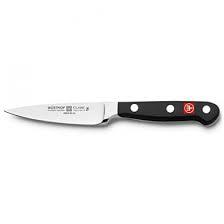Knife: (3, 100, 220, 126)
